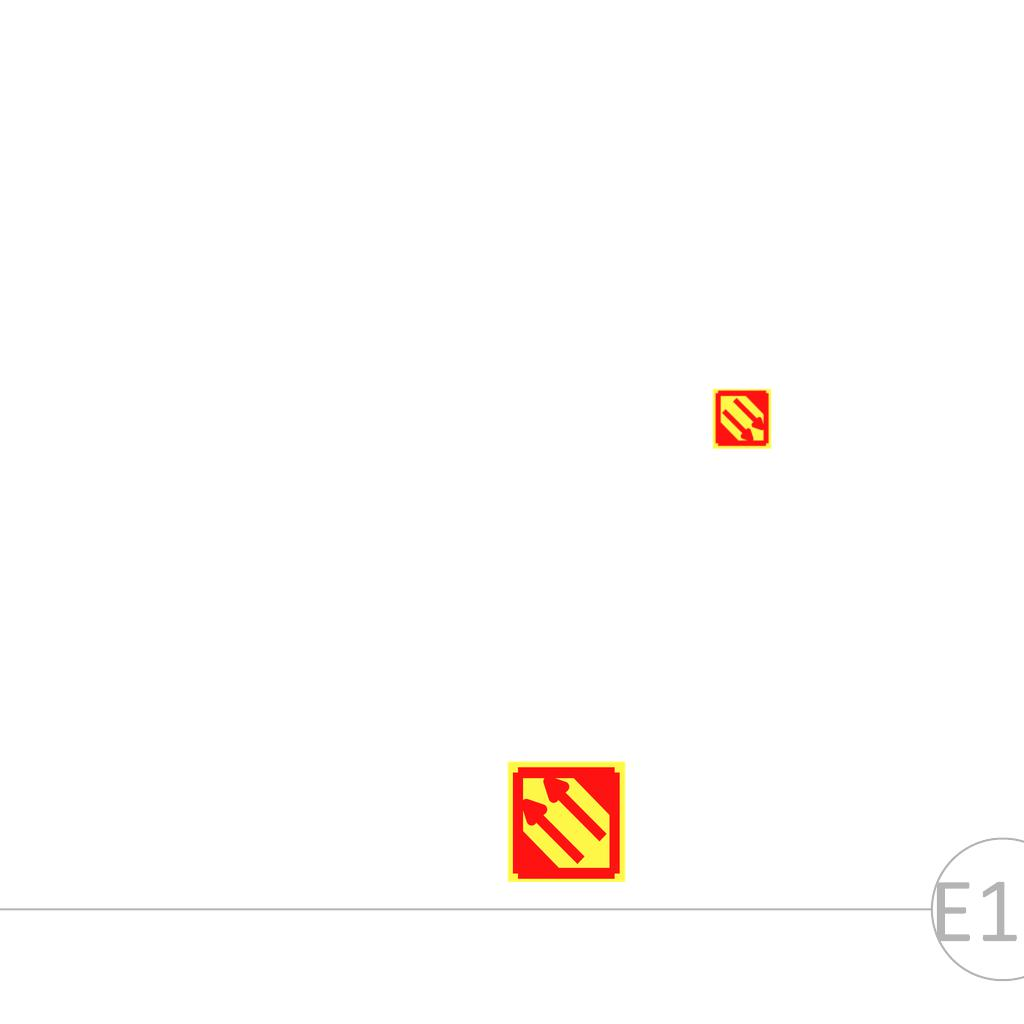ASR_Ansaugrauchmelder: (504, 759, 629, 884), (711, 388, 773, 450)
